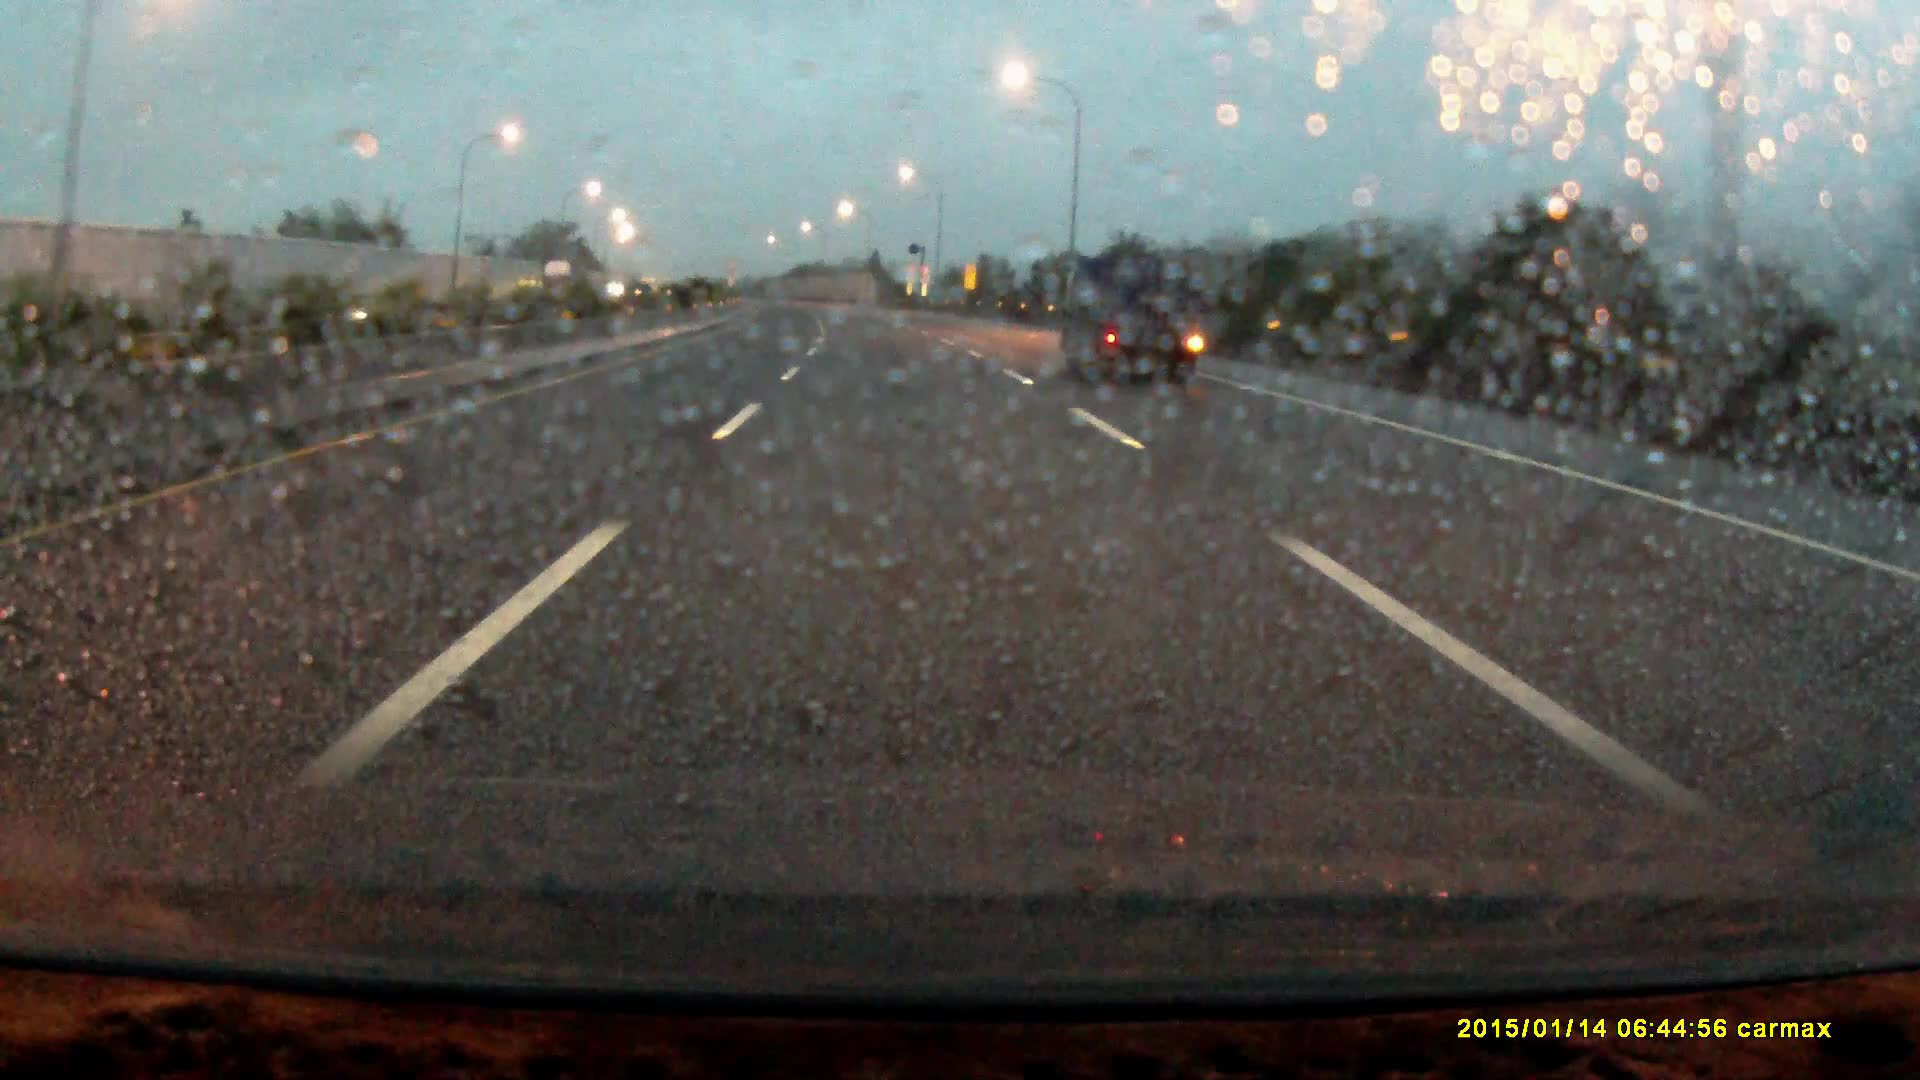vehicle: (1058, 255, 1201, 396), (543, 258, 583, 318)
